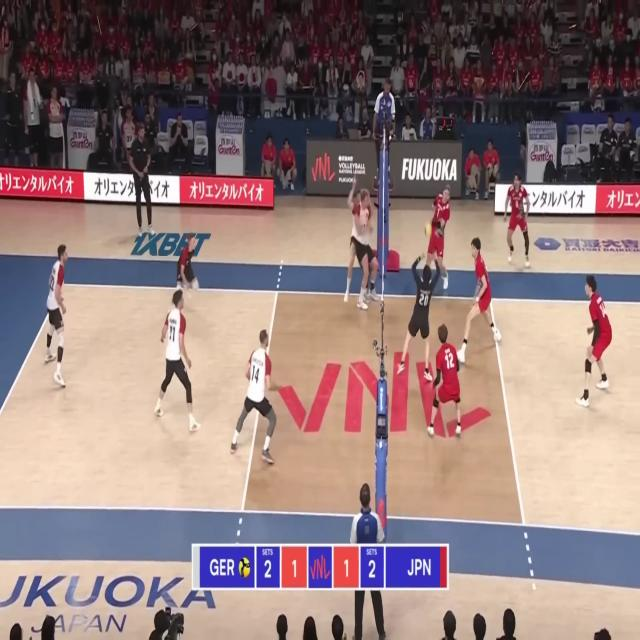referee: (348, 481, 386, 640)
team_one: (154, 288, 200, 435), (231, 328, 277, 467), (342, 172, 377, 310), (44, 243, 68, 390), (174, 232, 200, 316)
team_two: (455, 238, 502, 366), (397, 251, 438, 381), (574, 274, 613, 408), (428, 324, 462, 441), (427, 185, 451, 293), (504, 174, 530, 268)
